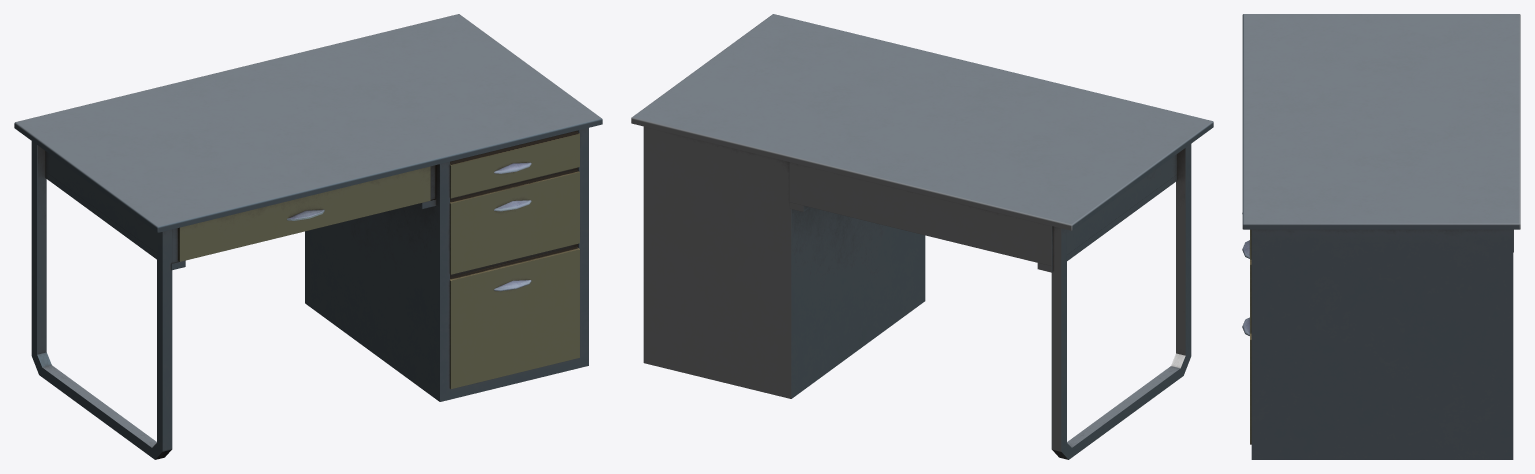
The model's file is Meja 5.fbx.
The picture shows the model from 3 angles, left to right: view 1: azimuth 30°, elevation 25°; view 2: azimuth 150°, elevation 25°; view 3: azimuth 270°, elevation 25°; orthographic projection. The views are drawn at different scales.
Visible parts, largest first — view 1: Meja 5_LOD0; view 2: Meja 5_LOD0; view 3: Meja 5_LOD0.
Boxes of the visible parts, x1=… form: Meja 5_LOD0: x1=14, y1=14, x2=602, y2=459; Meja 5_LOD0: x1=631, y1=14, x2=1213, y2=459; Meja 5_LOD0: x1=1242, y1=14, x2=1520, y2=459.
Size of what is drawn, in the model's own units: 173 by 92.37 by 96.91.
